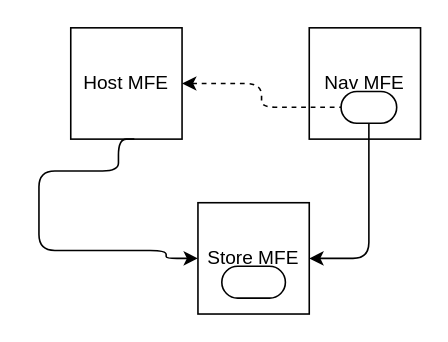
The diagram is 448 pixels wide and 342 high, and some of its shapes have lost their labels. Each missing label, with the centre of its shape:
"header" belongs at point 368,106.
"store" belongs at point 252,281.
